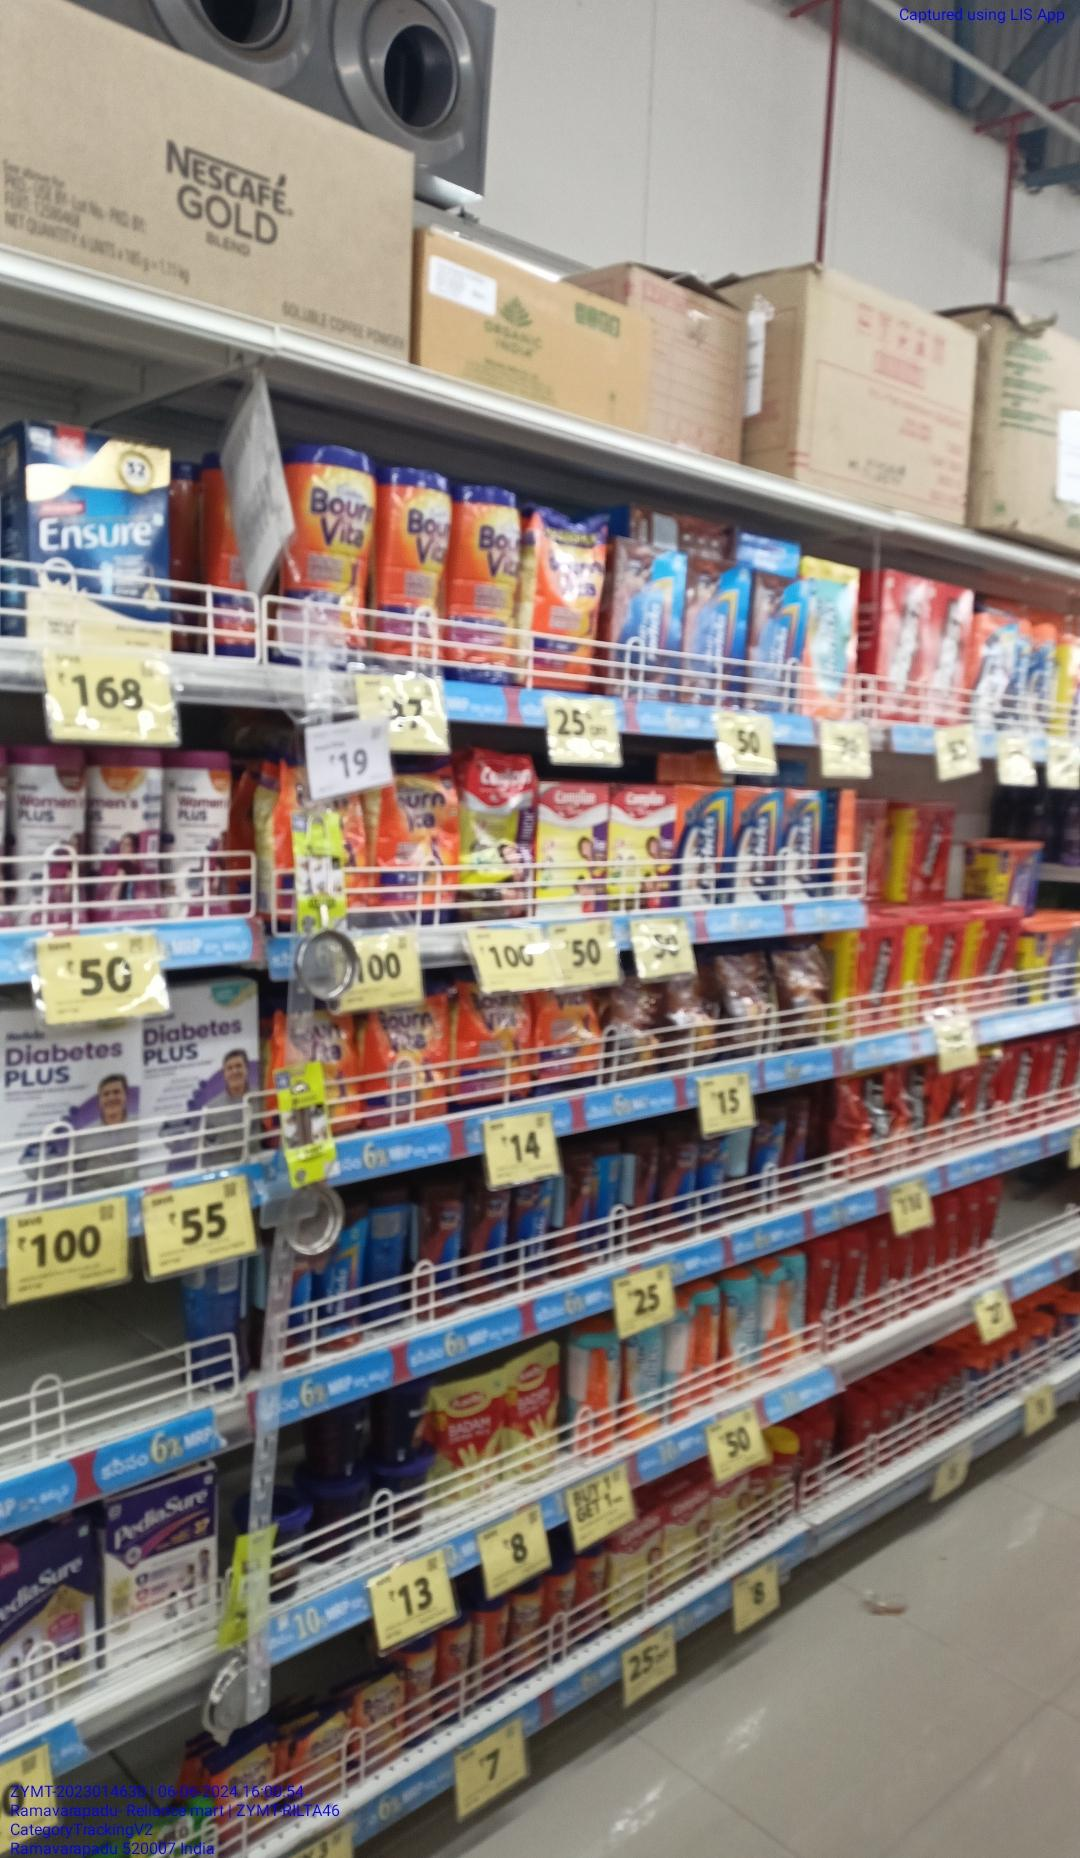BOURN_VITA_1_KG_JAR: (282, 441, 375, 669), (378, 469, 456, 670), (462, 483, 517, 681)
BOURN_VITA_1_KG_POUCH: (530, 509, 602, 690)
BOURN_VITA_750_G_POUCH: (378, 765, 451, 918)
COMPLAN_RC_POUCH_700_GMS_12: (460, 744, 539, 924)
